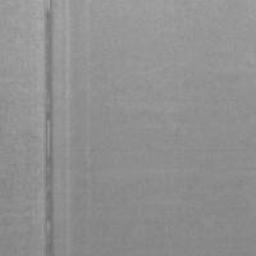Welding line: (44, 0, 55, 256)
